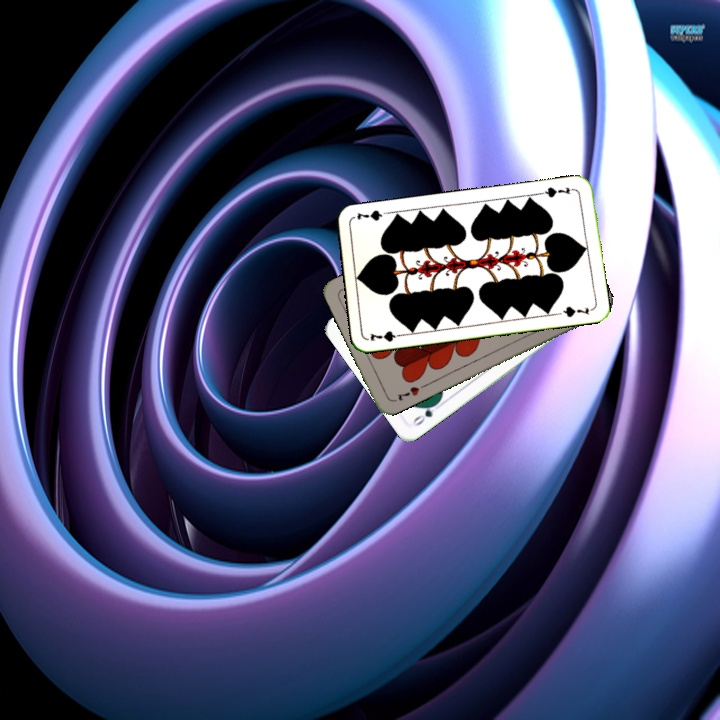G7: (537, 183, 578, 200), (366, 327, 406, 344)
GO: (409, 398, 444, 429)
H7: (393, 382, 422, 404)
